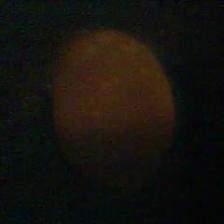fertile: (46, 26, 178, 190)
